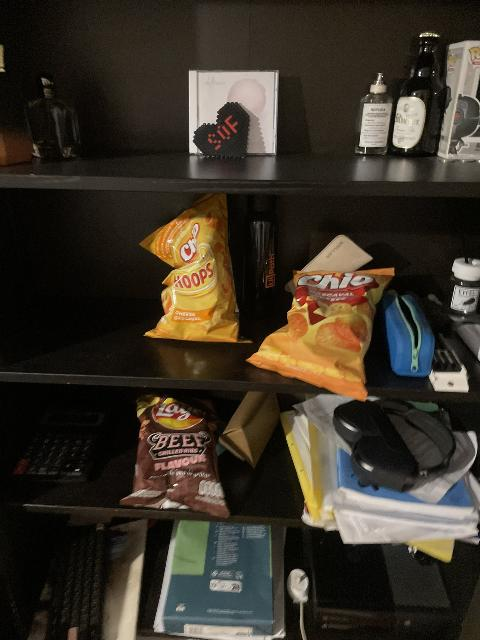Chio Cascaval 125g: (247, 265, 396, 396)
Chio Hula Hoops Cheese 70g: (139, 193, 251, 340)
Lays Beef Grilled Ribs 125g: (121, 393, 230, 515)
